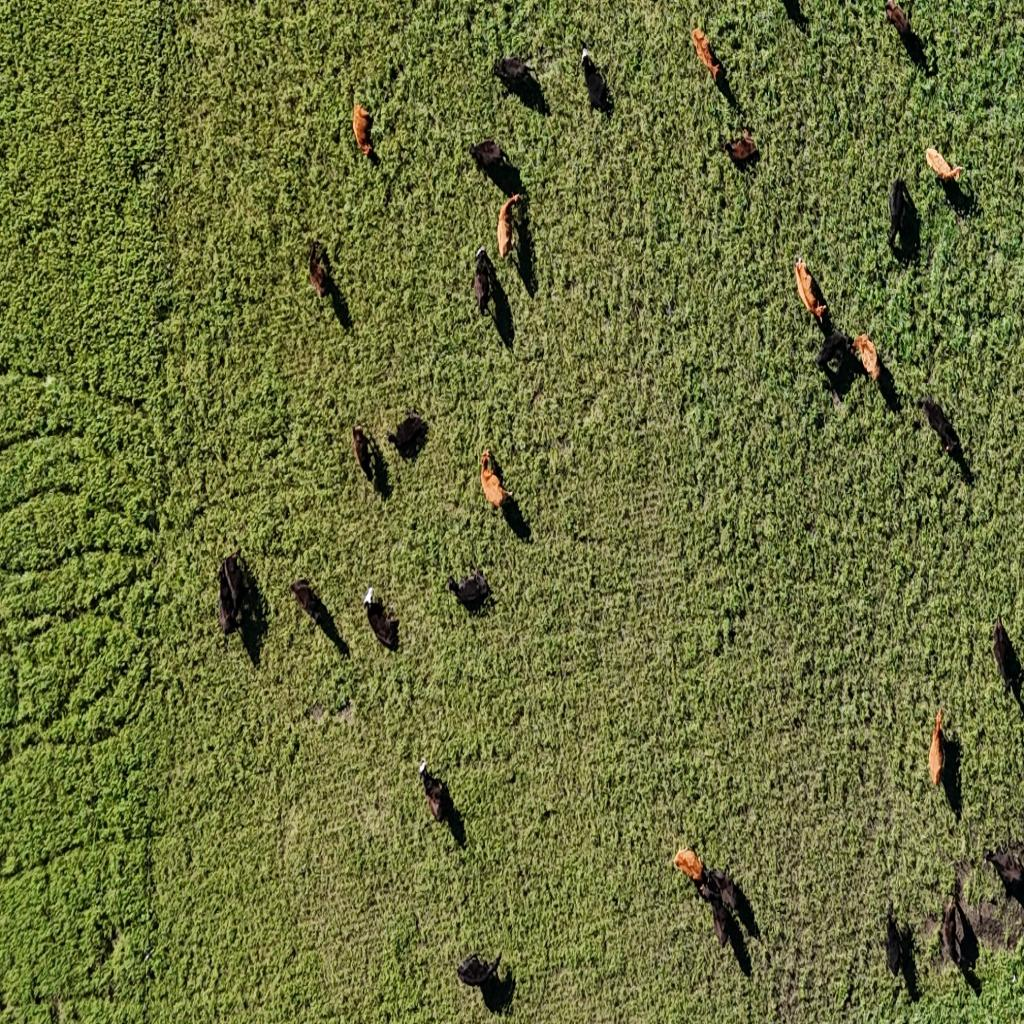cow: (882, 844, 1015, 991), (926, 638, 1020, 787), (466, 156, 528, 326), (511, 129, 572, 299), (692, 25, 758, 162), (350, 415, 427, 492), (453, 949, 512, 1014), (915, 394, 966, 466), (928, 709, 961, 813), (470, 136, 522, 201), (308, 237, 344, 328), (855, 335, 898, 411), (924, 148, 969, 220), (716, 867, 760, 940), (883, 1, 927, 71), (306, 593, 352, 659), (492, 55, 541, 109), (990, 618, 1020, 706), (985, 846, 1024, 912), (882, 904, 912, 988), (886, 178, 917, 258), (362, 586, 398, 652), (236, 596, 267, 666), (419, 756, 450, 824), (814, 330, 854, 382), (692, 27, 725, 90), (580, 45, 610, 112), (290, 577, 328, 629), (387, 413, 429, 457), (473, 244, 497, 320), (448, 570, 490, 612), (501, 489, 531, 541), (352, 423, 374, 485), (217, 582, 240, 636)
